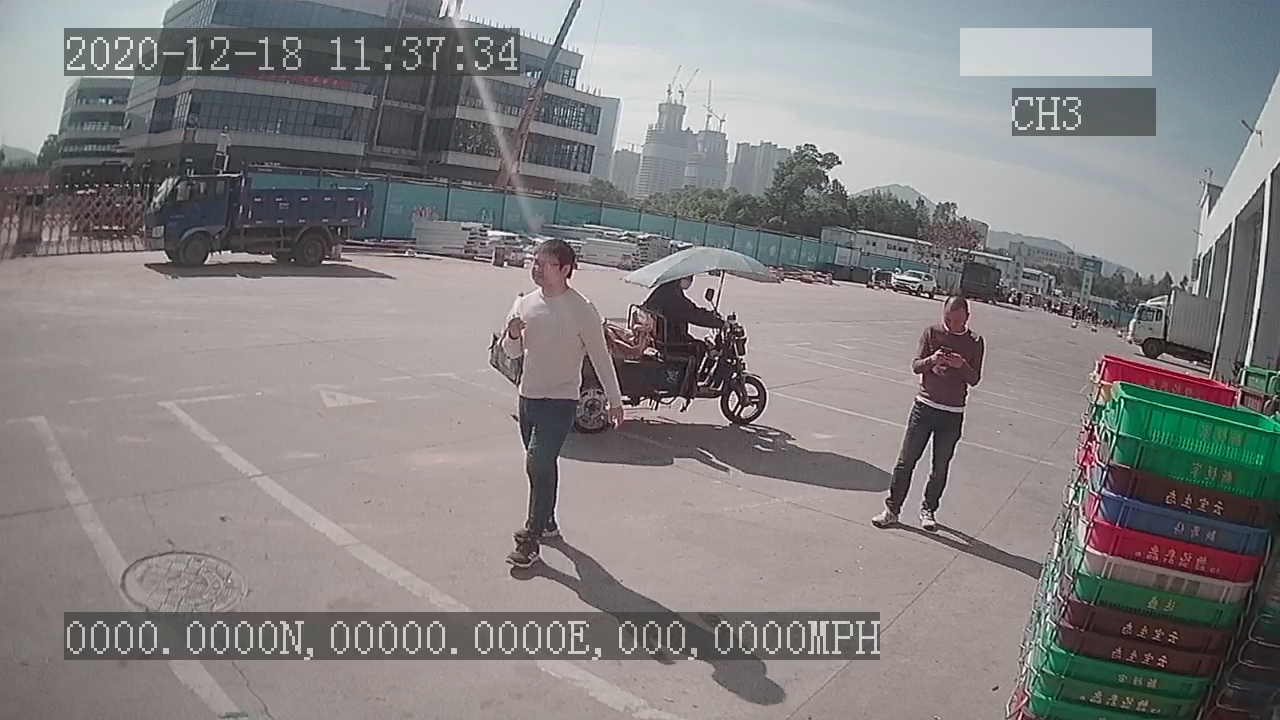person: (870, 293, 990, 537)
